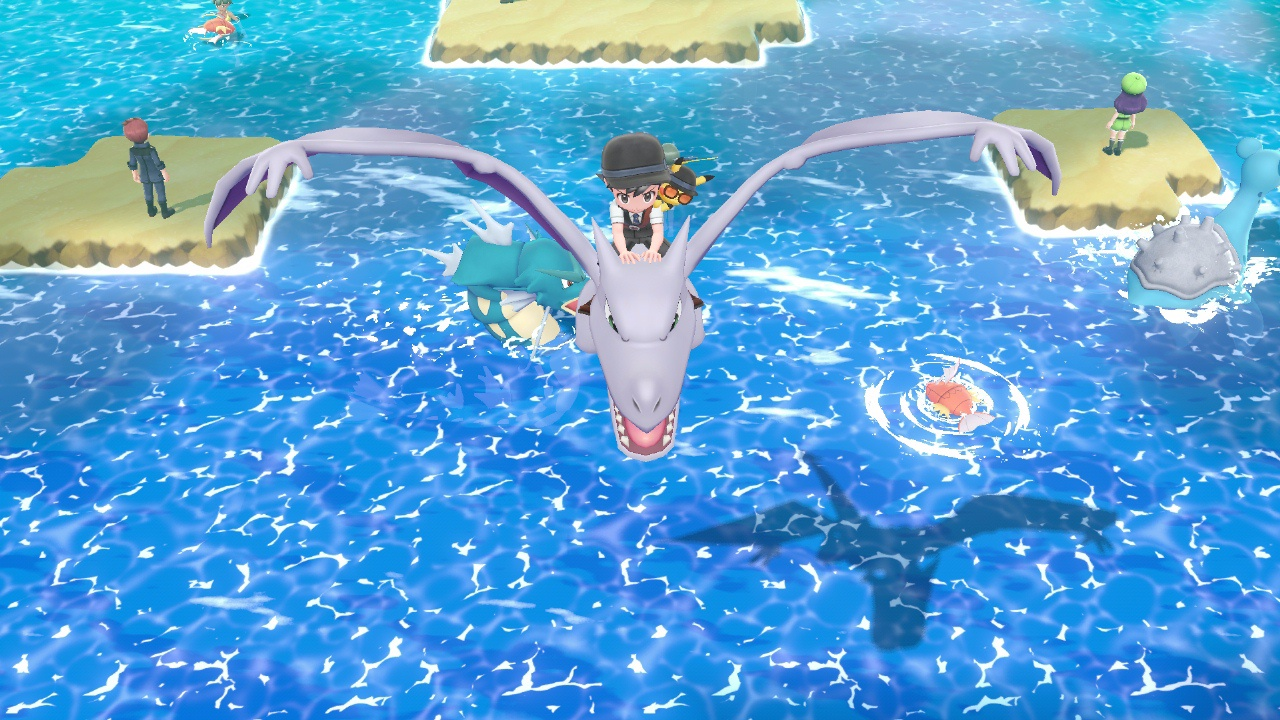Red: (919, 364, 997, 432), (186, 15, 237, 44)
